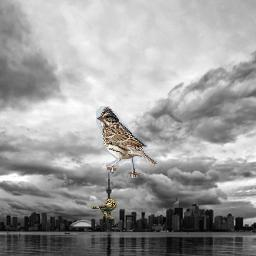Sparrow: (97, 106, 158, 178), (91, 199, 118, 220)
